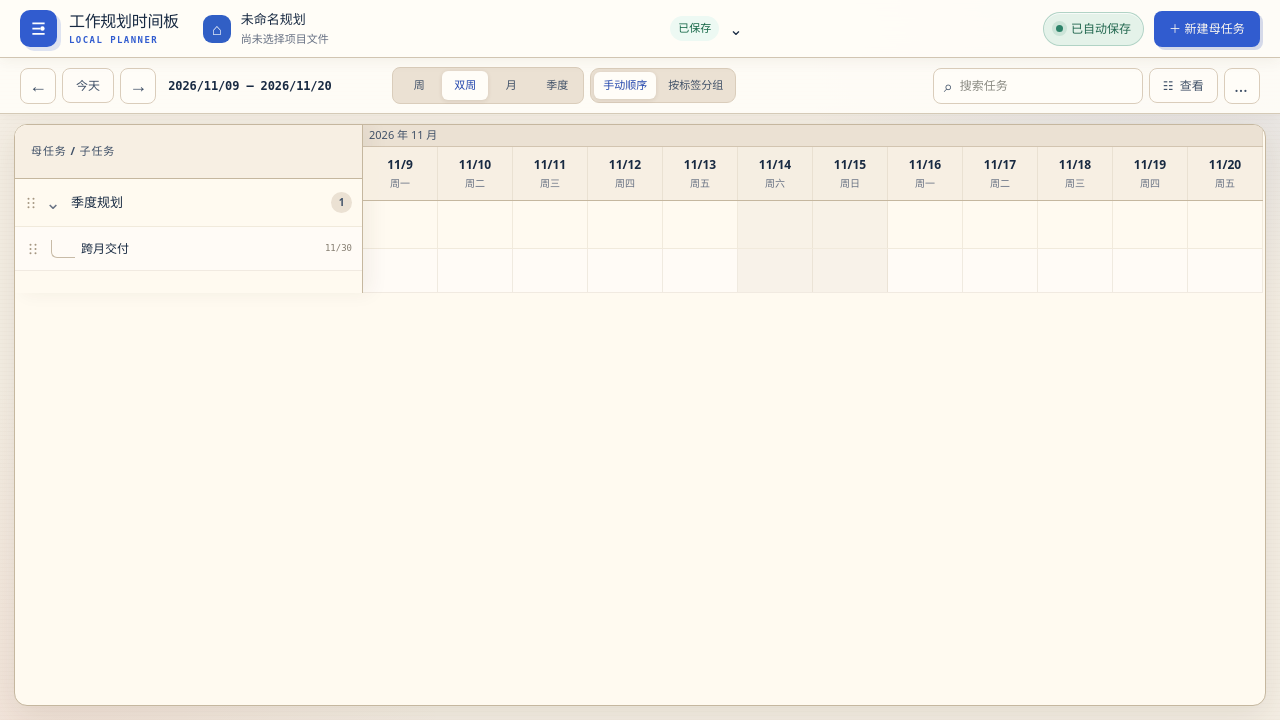
Scenario: quarter overview integration › keeps a sub-threshold gesture as a click and provides a wider single-day hit target
This screenshot has width=1280, height=720.
Expected: the button "季度规划" is shown, [67,188,331,217]
Click the button "季度".
click(557, 86)  # box [534,71,580,100]
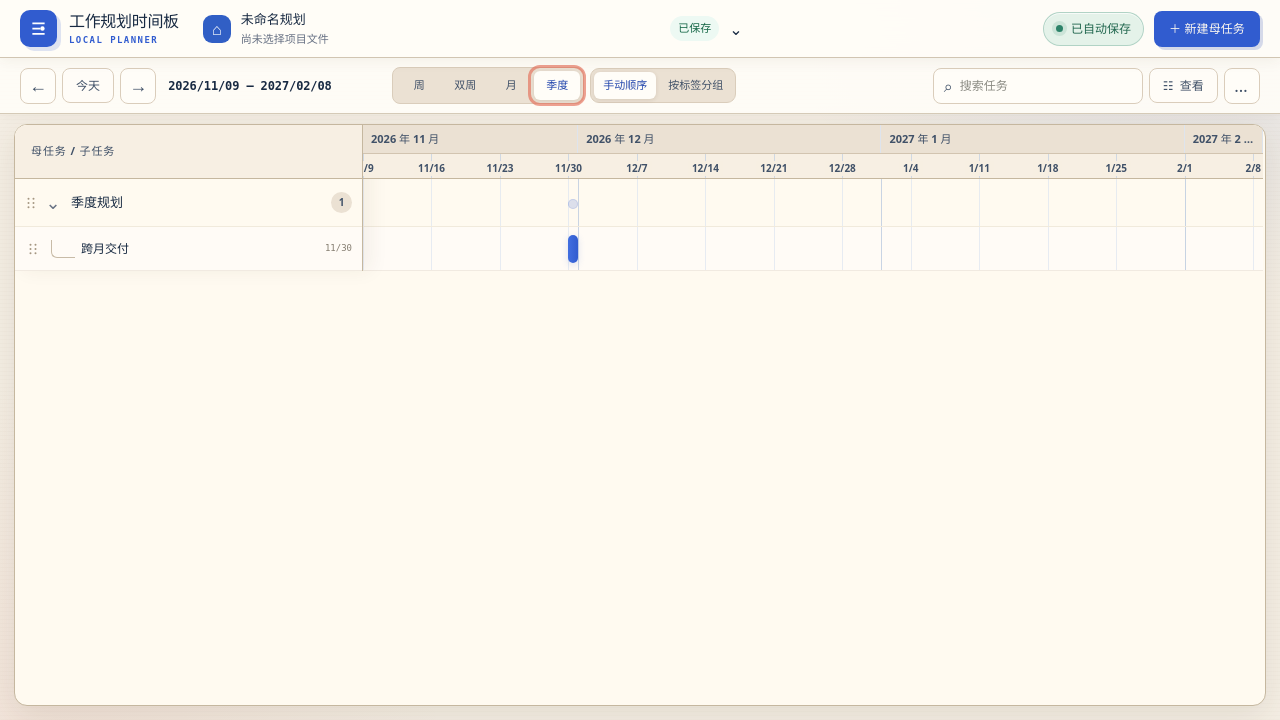
Click the button named "编辑子任务“跨月交付”".
click(580, 248)  # box [568,227,592,270]
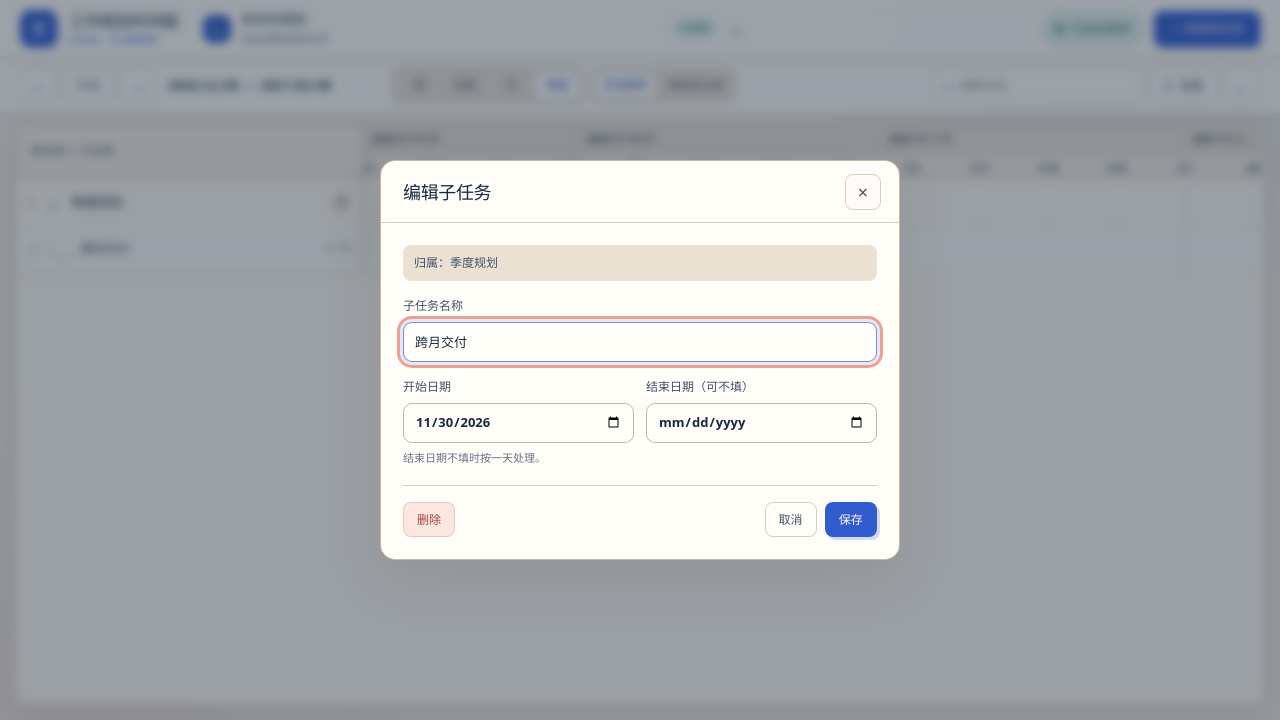
Expected: the heading "编辑子任务" is shown, [403,179,491,206]
